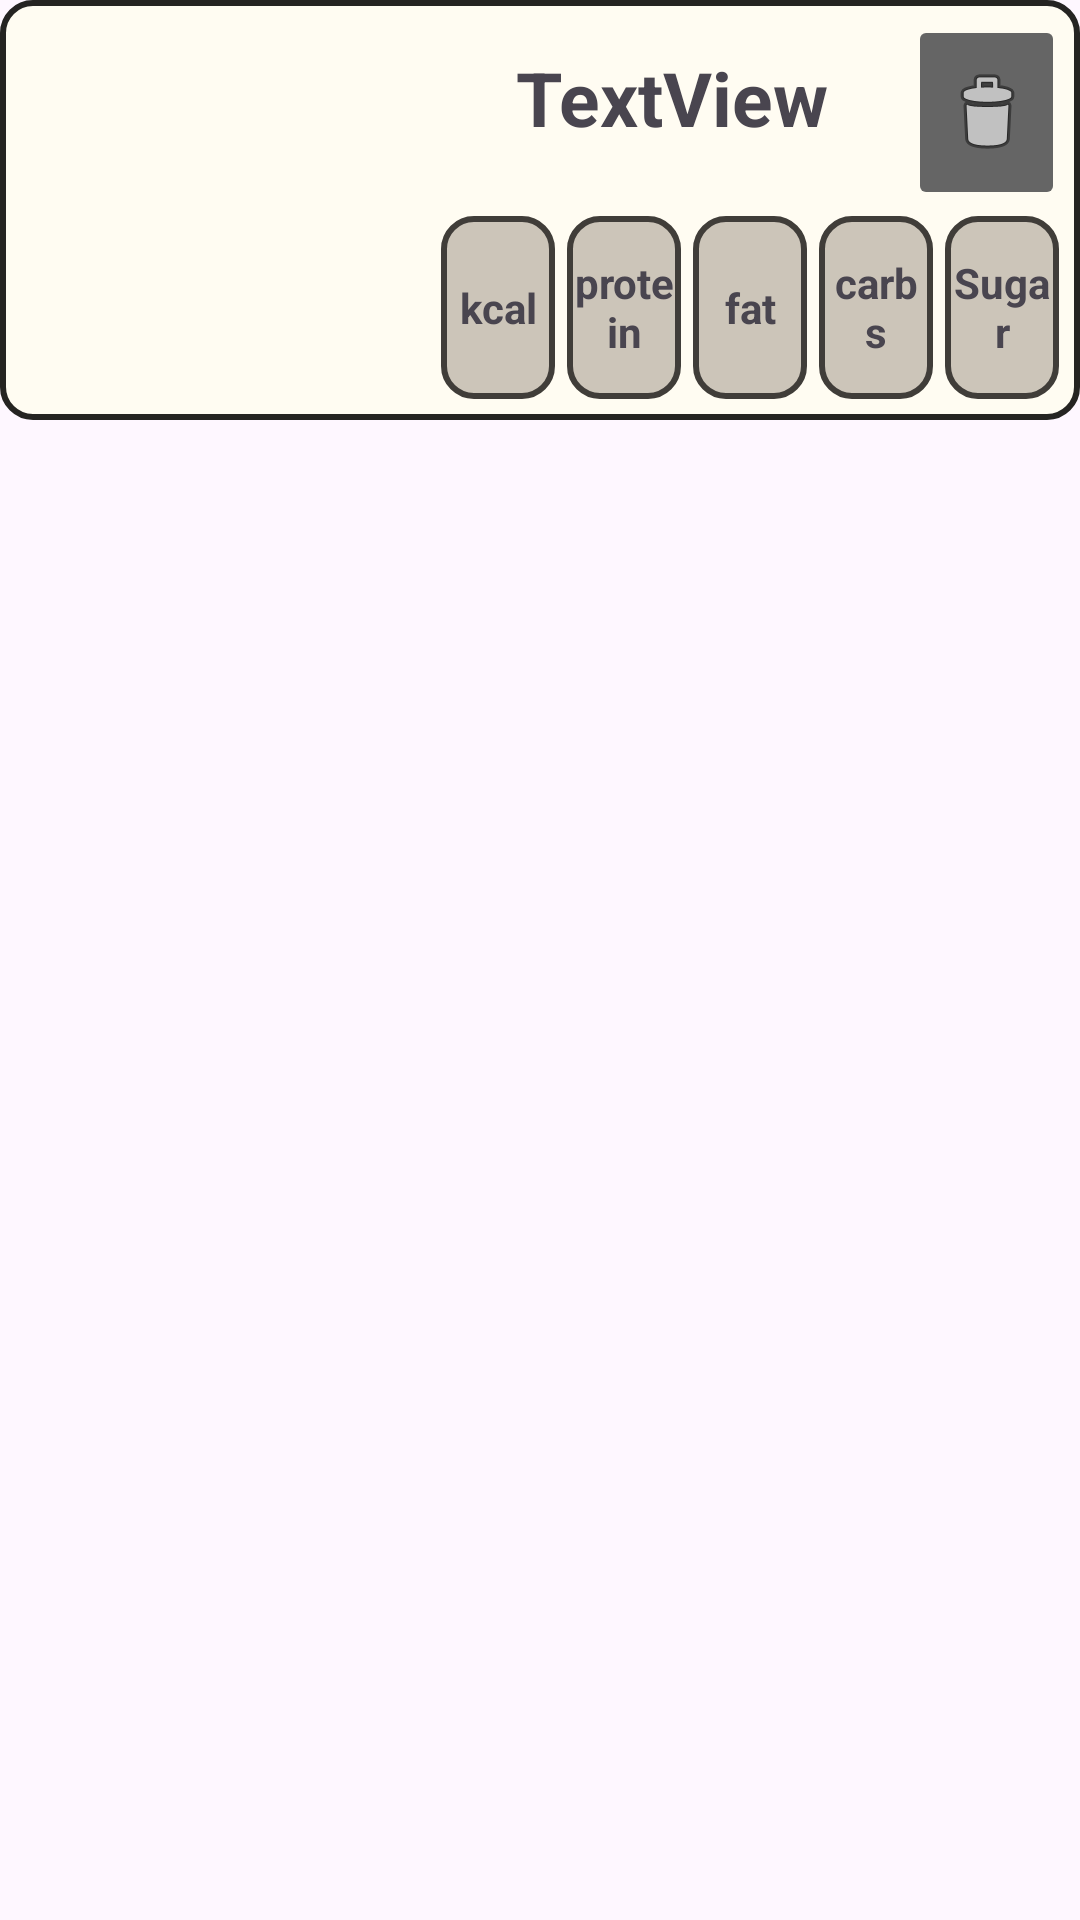

Icons on this 1080px×1920px Android screen, each with its box as (x1, y1, x2, y2):
delete: (920, 33, 1053, 192)
